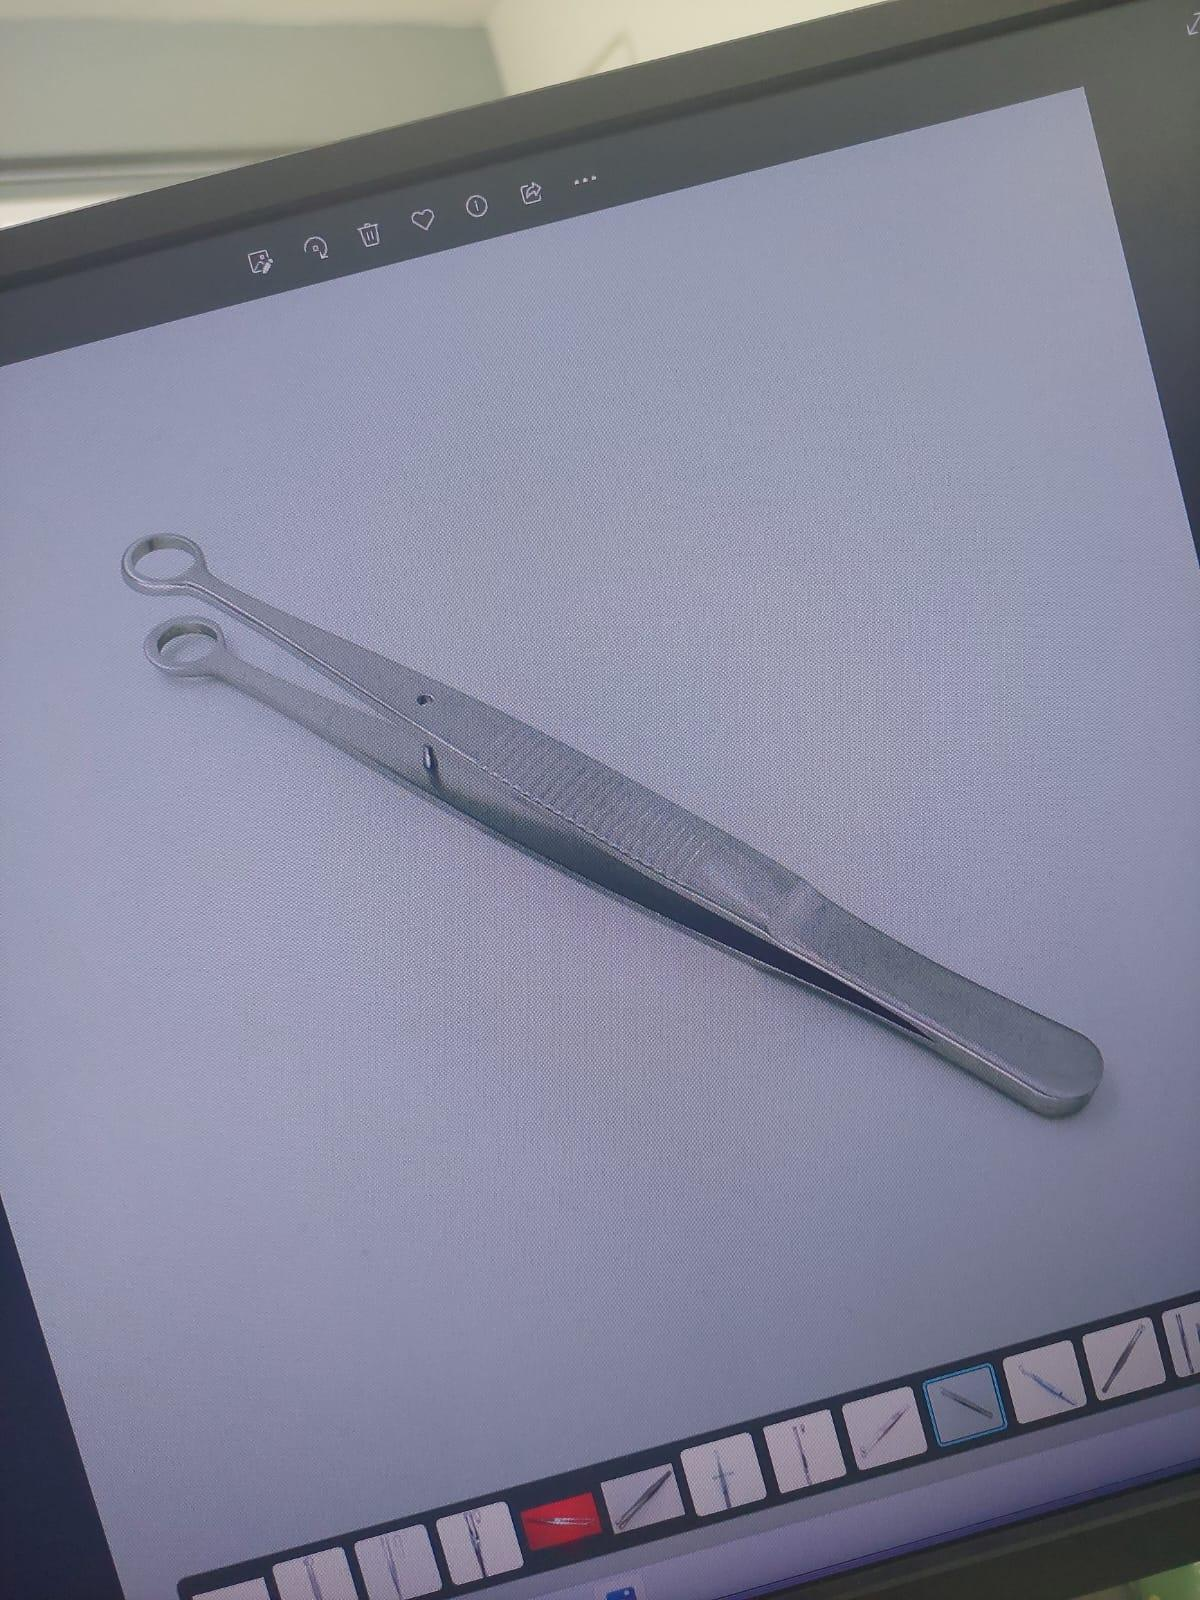Eye Intestinal Forceps: (100, 513, 1124, 1125)
